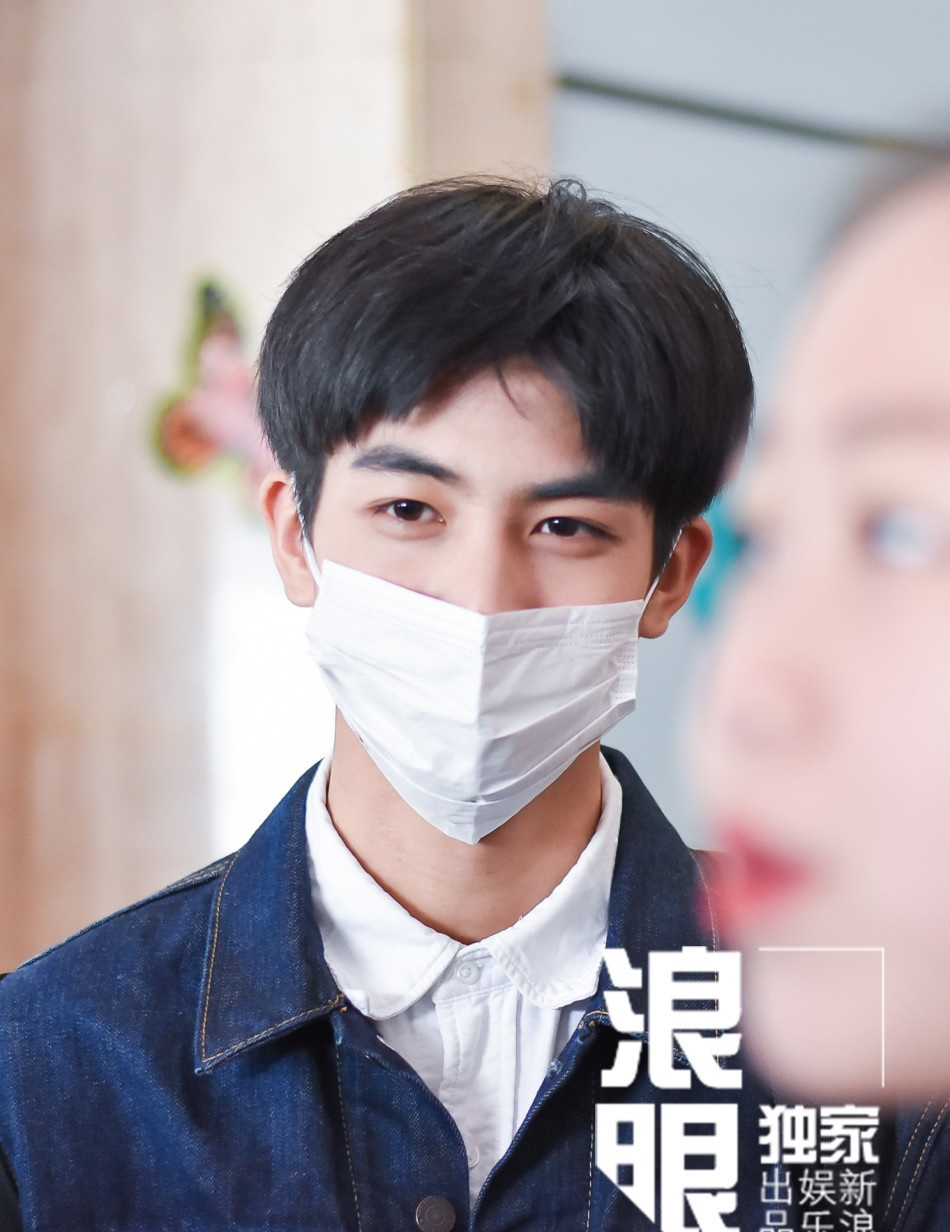face: (689, 253, 950, 1107)
face_mask: (315, 310, 650, 847)
